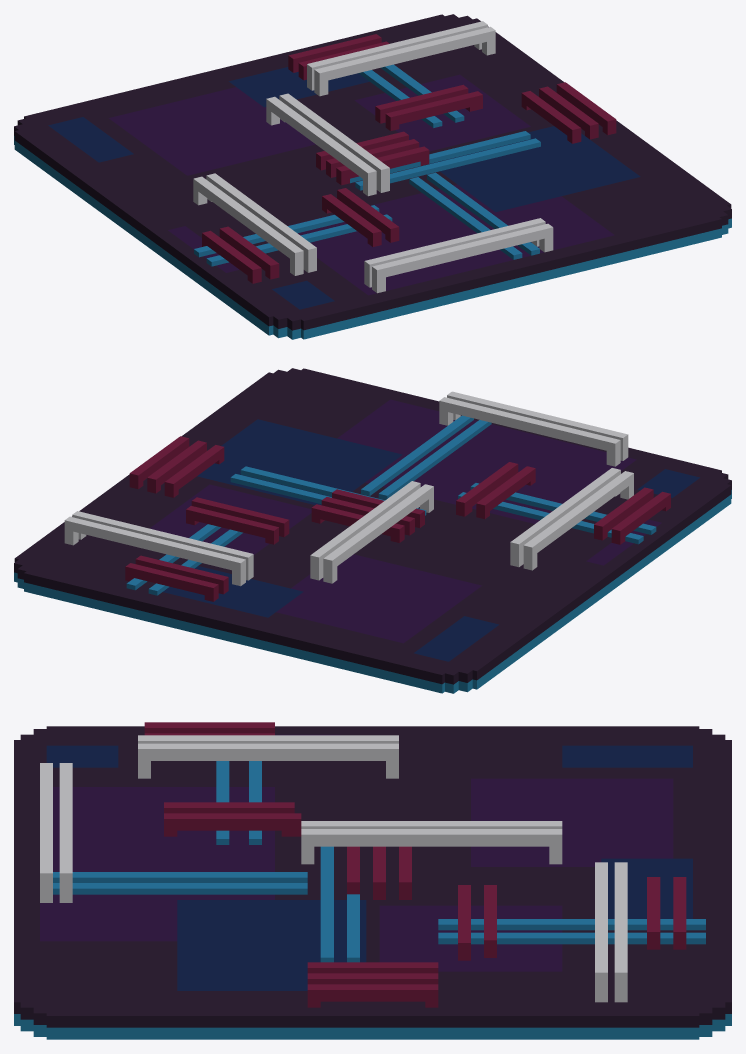
Rendered from ggj2020_stage_cpc.obj.
The picture shows the model from 3 angles, top to bottom: view 1: azimuth 30°, elevation 25°; view 2: azimuth 150°, elevation 25°; view 3: azimuth 270°, elevation 25°; orthographic projection. The views are drawn at different scales.
Size of the model in its own units: 10.5 by 0.9 by 11.
1 material, 1 textured.
